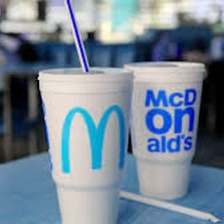drinking_straw: (59, 0, 96, 75)
paper_cup: (32, 65, 139, 224), (119, 56, 211, 203)
